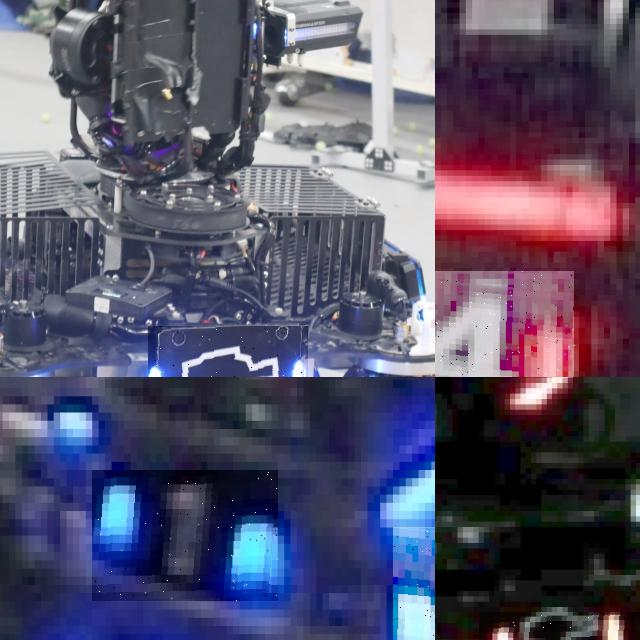B1: (92, 470, 278, 601), (393, 527, 435, 640)
Bs: (148, 325, 307, 377)
R4: (435, 271, 575, 377)
Rs: (478, 612, 640, 640)
